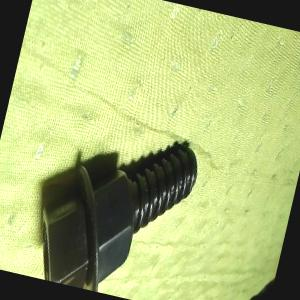parafuso: (25, 113, 203, 300)
